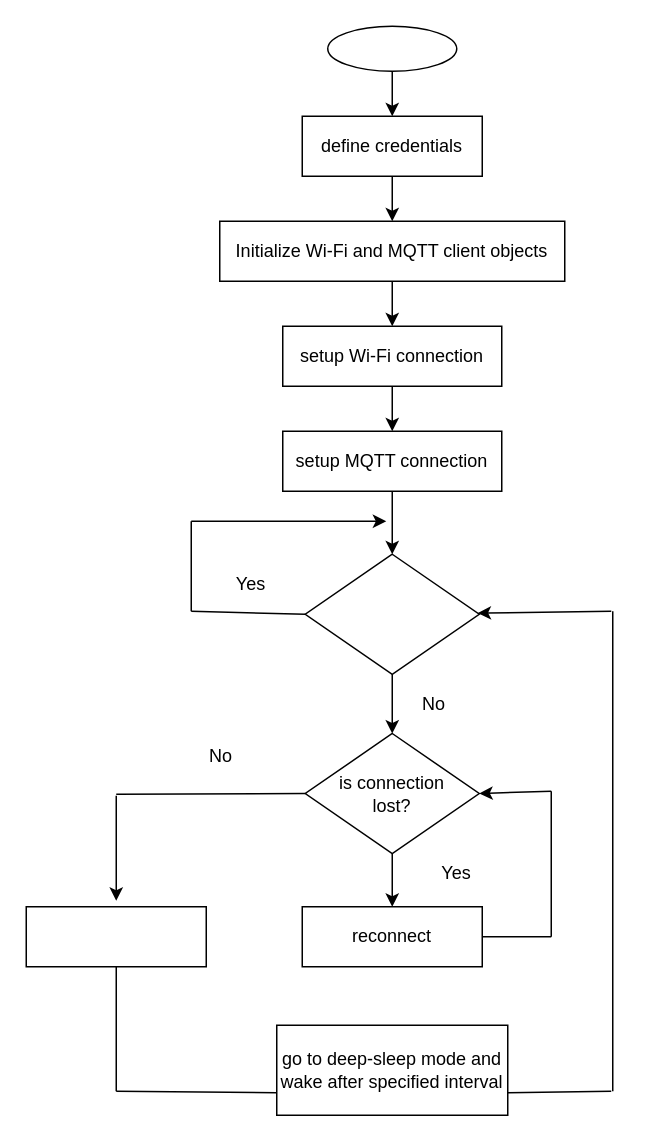
The diagram is 650 pixels wide and 1142 high, and some of its shapes have lost their labels. The shapes that lost their labels are listed below. From the top down, each one's box as (x1, y1, x2, y2) in pixels, then its label:
(326, 25, 457, 71): Begin
(304, 553, 479, 674): is ESP in deep sleep?
(25, 905, 206, 967): publish data
